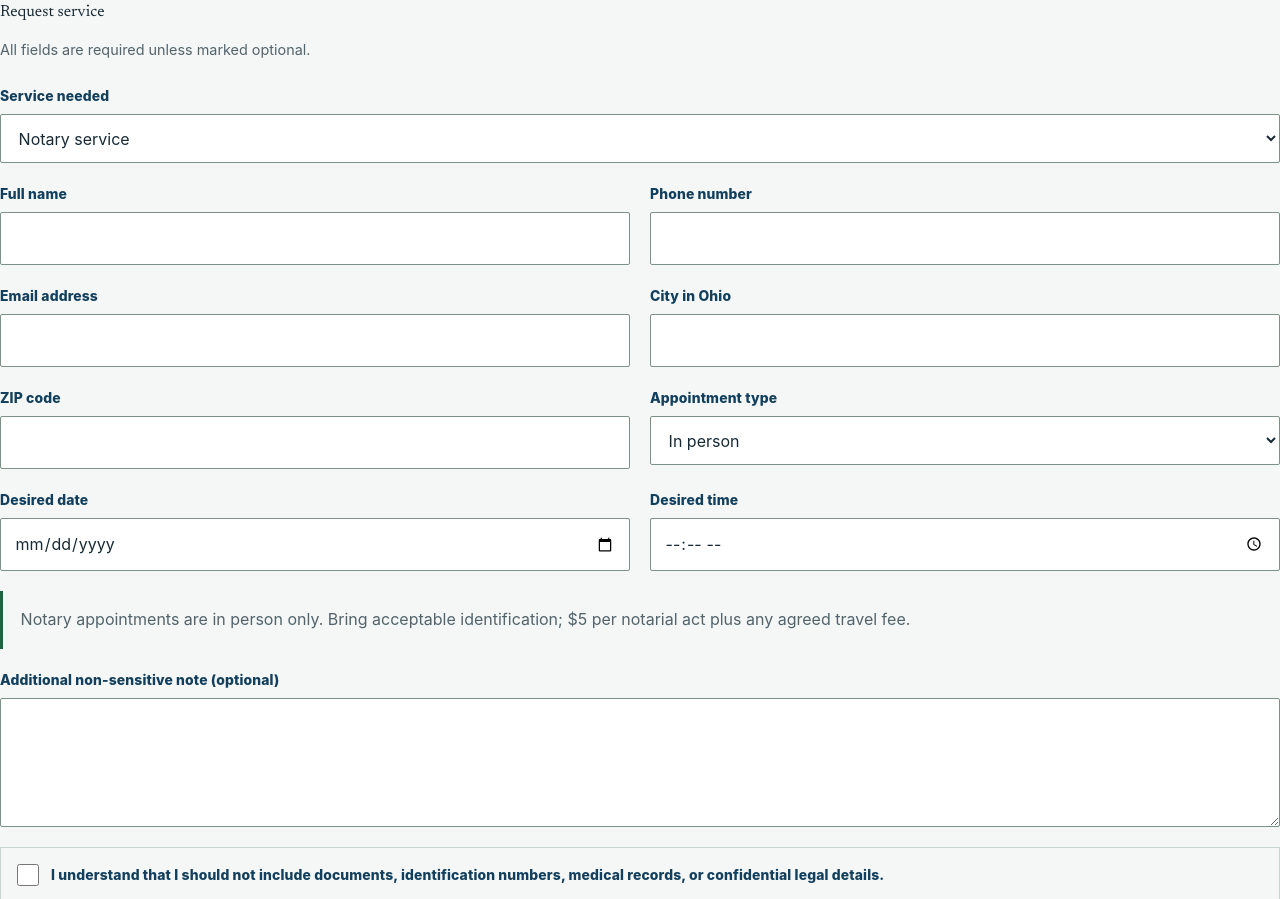
Test: accessible contact form › preselects a service and changes its keyboard-operable fields
Expected: the dropdown labelled "Appointment type" shows "In person", [650, 416, 1279, 465]
Step 1. Select "Spanish–English interpreting" in the dropdown labelled "Service needed" → (640, 139), box [0, 114, 1279, 163]
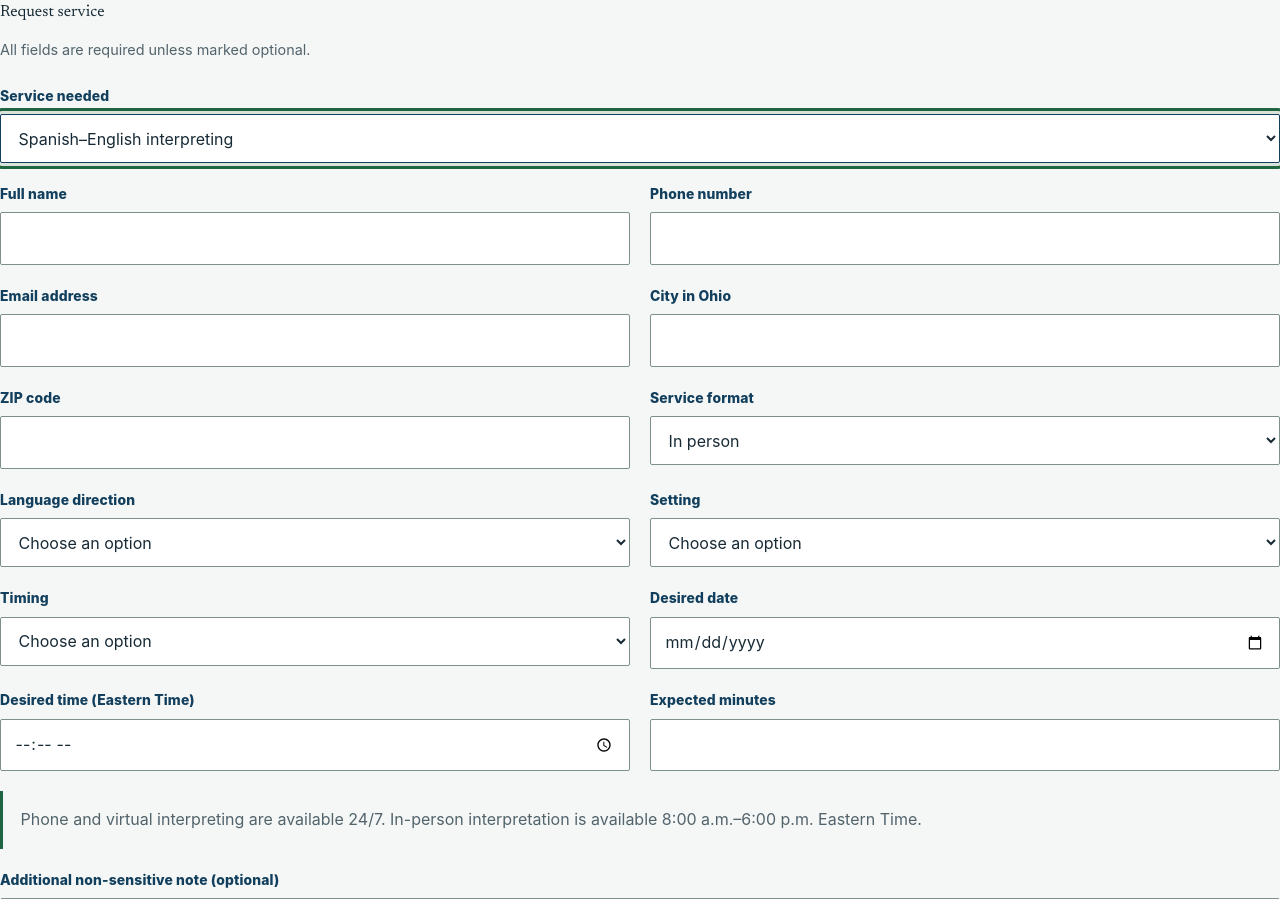
Expected: the dropdown labelled "Service format" is shown, [650, 416, 1279, 465]
Expected: the dropdown labelled "Language direction" is shown, [0, 518, 630, 567]
Expected: the label labelled "Appointment type" is gone
